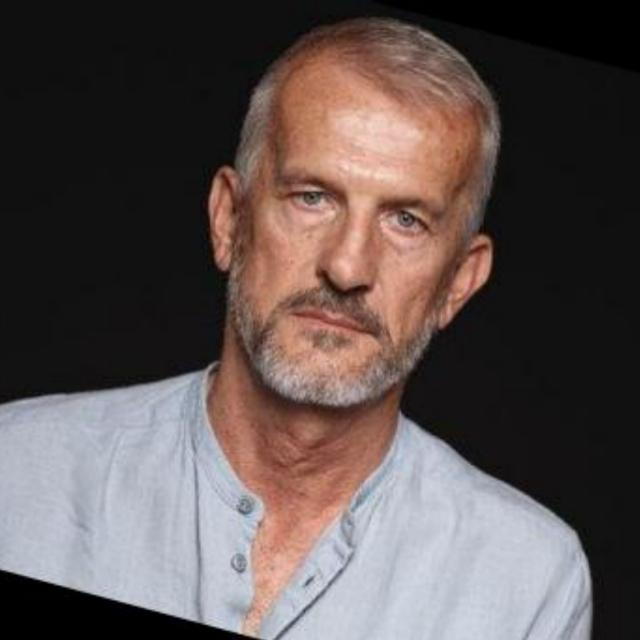Natural: (218, 50, 524, 431)
